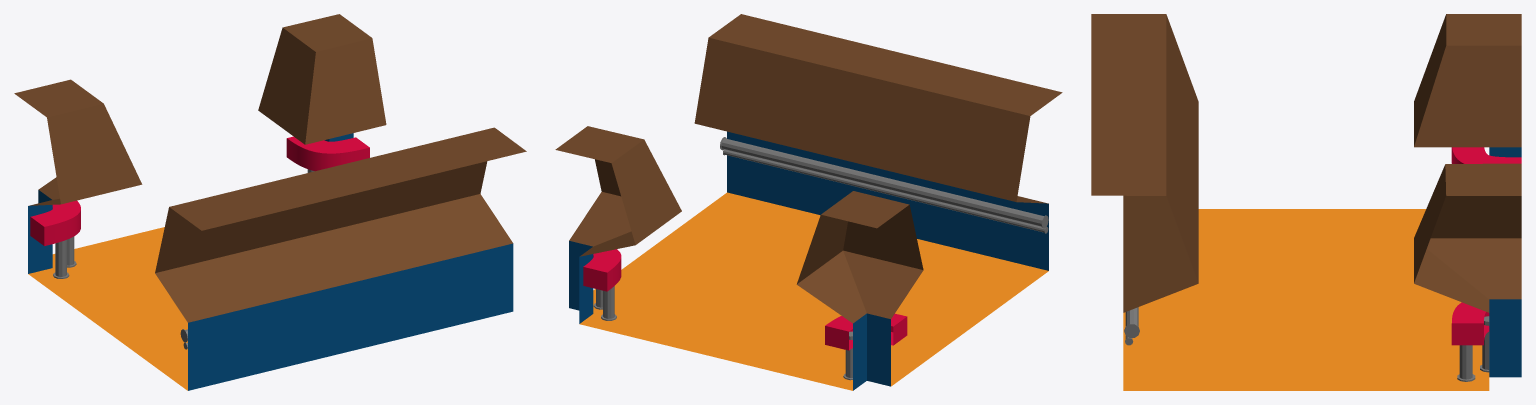
File: TShape.fbx
3 views of the same model, side by side, from view 1: azimuth 30°, elevation 25°; view 2: azimuth 150°, elevation 25°; view 3: azimuth 270°, elevation 25° (orthographic). The views are drawn at different scales.
Visible parts, largest first — view 1: TShape, Cube.004, Cube.003, Cylinder.011; view 2: TShape, Cylinder.004, Cube.004, Cube.003; view 3: TShape, Cube.004, Cube.003, Cylinder.013, Cylinder.004.
Boxes of the visible parts, x1=… form: TShape: x1=14, y1=14, x2=526, y2=390; Cube.004: x1=286, y1=136, x2=369, y2=171; Cube.003: x1=30, y1=200, x2=80, y2=245; Cylinder.011: x1=53, y1=240, x2=69, y2=278; TShape: x1=555, y1=14, x2=1062, y2=390; Cylinder.004: x1=720, y1=137, x2=1048, y2=233; Cube.004: x1=583, y1=249, x2=621, y2=291; Cube.003: x1=825, y1=313, x2=907, y2=350; TShape: x1=1091, y1=14, x2=1521, y2=390; Cube.004: x1=1451, y1=302, x2=1489, y2=345; Cube.003: x1=1451, y1=147, x2=1521, y2=163; Cylinder.013: x1=1457, y1=345, x2=1475, y2=381; Cylinder.004: x1=1124, y1=307, x2=1139, y2=345.
Size of the model in its own units: 4 by 2.01 by 4.
3 materials, 1 textured.
